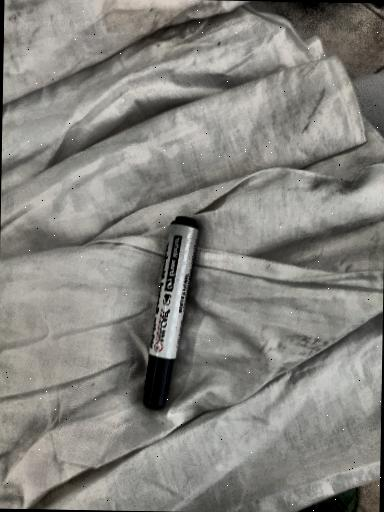marcador negro: (143, 217, 199, 410)
